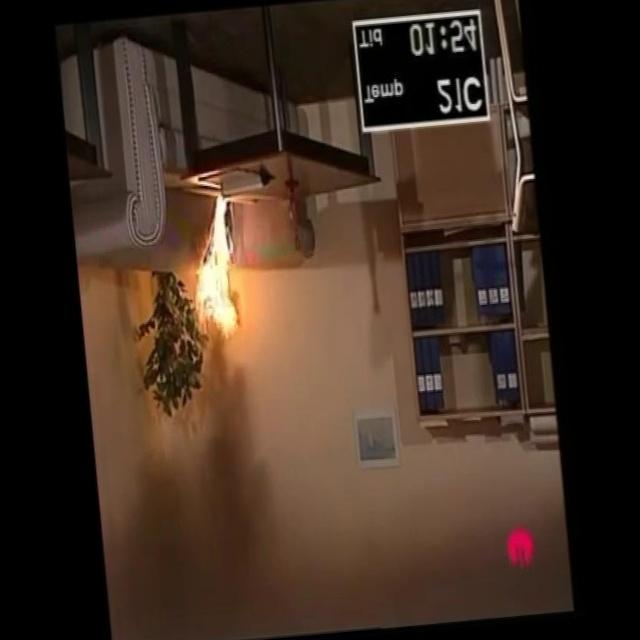fire: (185, 177, 256, 344)
